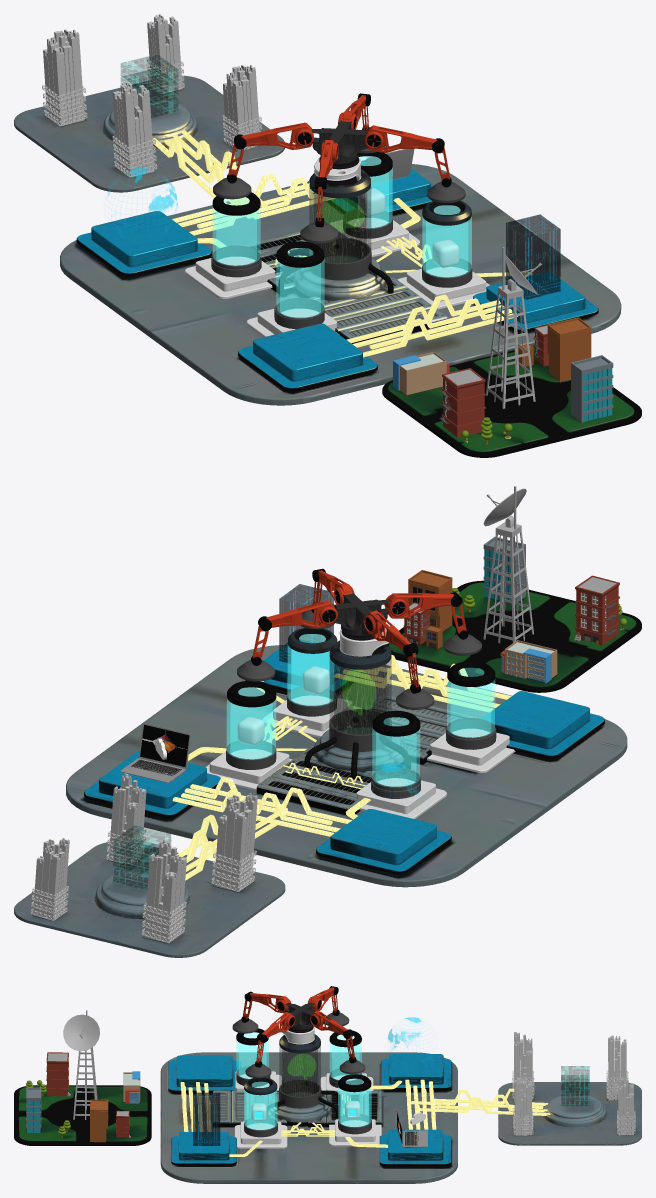
The picture shows the model from 3 angles, top to bottom: view 1: azimuth 30°, elevation 25°; view 2: azimuth 150°, elevation 25°; view 3: azimuth 270°, elevation 25°; orthographic projection. The views are drawn at different scales.
Visible parts, largest first — view 1: pasted__pasted__pCube1001, pCube1031, pCube1028, pCube5031, pCube5003, polySurface8010, polySurface50015, Sci-Fi_Industrial_Panel023, polySurface50021, Cube, Cube065, pCube5001 (+36 smaller); view 2: pasted__pasted__pCube1001, pCube1031, pCube1028, pCube5003, pCube5031, polySurface8010, polySurface50019, polySurface50015, Cube065, polySurface52001, Sci-Fi_Industrial_Panel022, polySurface50020 (+38 smaller); view 3: pasted__pasted__pCube1001, pCube1031, polySurface8010, pCube1028, pCube5031, pCube5003, pCube5002, pCube5001, polySurface50019, polySurface50015, polySurface52001, Cube065 (+38 smaller).
Boxes of the visible parts, box(x1,y1,x2,y2) form: pasted__pasted__pCube1001: box(60, 164, 621, 405); pCube1031: box(14, 75, 284, 192); pCube1028: box(382, 346, 641, 457); pCube5031: box(238, 323, 377, 391); pCube5003: box(76, 211, 212, 276); polySurface8010: box(387, 347, 634, 452); polySurface50015: box(422, 200, 472, 287); Sci-Fi_Industrial_Panel023: box(309, 277, 447, 343); polySurface50021: box(276, 241, 324, 323); Cube: box(506, 214, 560, 299); Cube065: box(486, 247, 541, 408); pCube5001: box(473, 272, 598, 332); pasted__pasted__pCube1001: box(66, 645, 627, 887); pCube1031: box(14, 842, 285, 957); pCube1028: box(386, 580, 641, 692); pCube5003: box(316, 809, 451, 874); pCube5031: box(481, 691, 604, 758); polySurface8010: box(388, 582, 636, 687); polySurface50019: box(226, 680, 276, 769); polySurface50015: box(287, 627, 337, 716); Cube065: box(483, 486, 533, 643); polySurface52001: box(330, 658, 391, 734); Sci-Fi_Industrial_Panel022: box(256, 746, 393, 815); polySurface50020: box(371, 711, 420, 790); pasted__pasted__pCube1001: box(160, 1052, 457, 1183); pCube1031: box(498, 1082, 641, 1145); polySurface8010: box(18, 1086, 147, 1141); pCube1028: box(14, 1085, 151, 1145); pCube5031: box(168, 1055, 240, 1092); pCube5003: box(381, 1054, 451, 1090); pCube5002: box(379, 1129, 451, 1166); pCube5001: box(171, 1132, 236, 1165); polySurface50019: box(338, 1074, 371, 1134); polySurface50015: box(244, 1077, 277, 1137); polySurface52001: box(279, 1046, 320, 1096); Cube065: box(63, 1010, 99, 1119).
Size of the model in its own units: 0.4223 by 0.1972 by 0.8782.
Materials: 62 (22 with a texture image).
